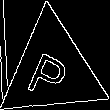P_NE: (27, 39, 77, 101)
